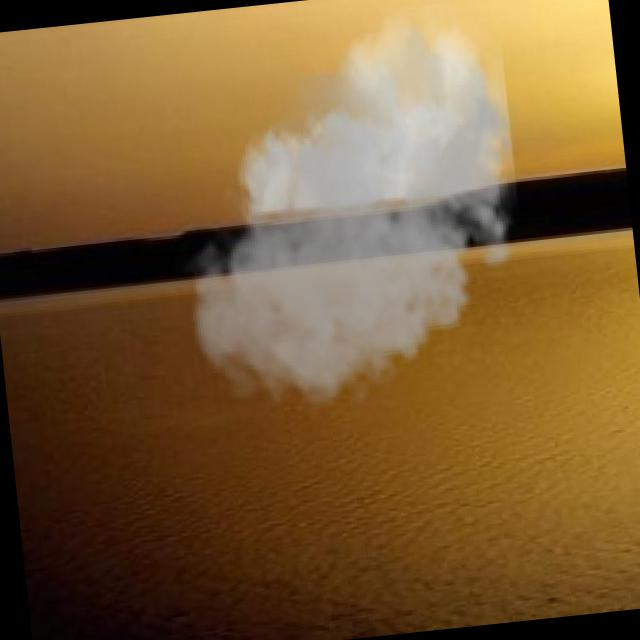Smoke: (155, 0, 552, 433)
